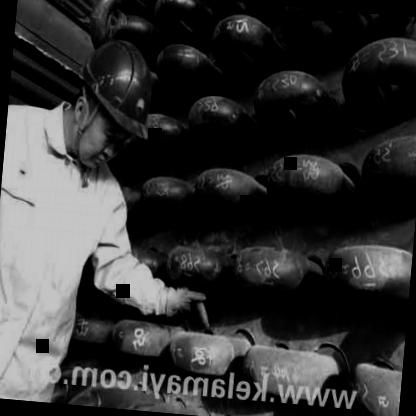helmet: (59, 23, 169, 181)
